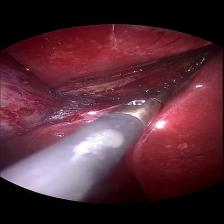Grasper: (106, 72, 198, 118)
